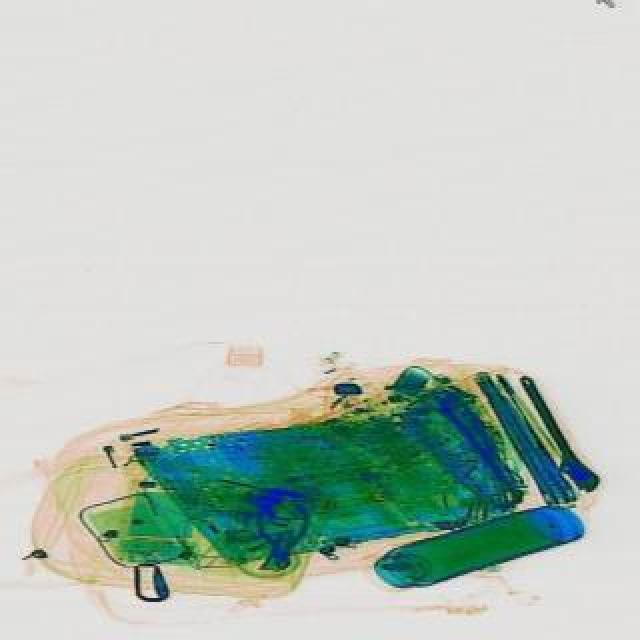scissors: (506, 368, 600, 500)
wrench: (428, 382, 516, 490), (252, 504, 306, 568)
